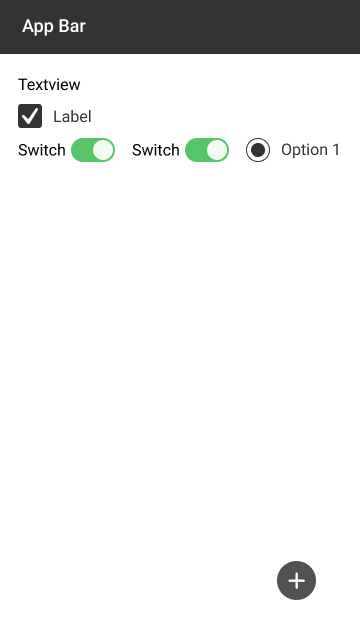checkBox: (16, 102, 94, 130)
floatingButton: (275, 558, 319, 606)
radioButton: (245, 135, 345, 167)
switch: (15, 135, 117, 165), (128, 135, 230, 165)
textView: (18, 75, 82, 94)
toolbar: (1, 1, 360, 55)
